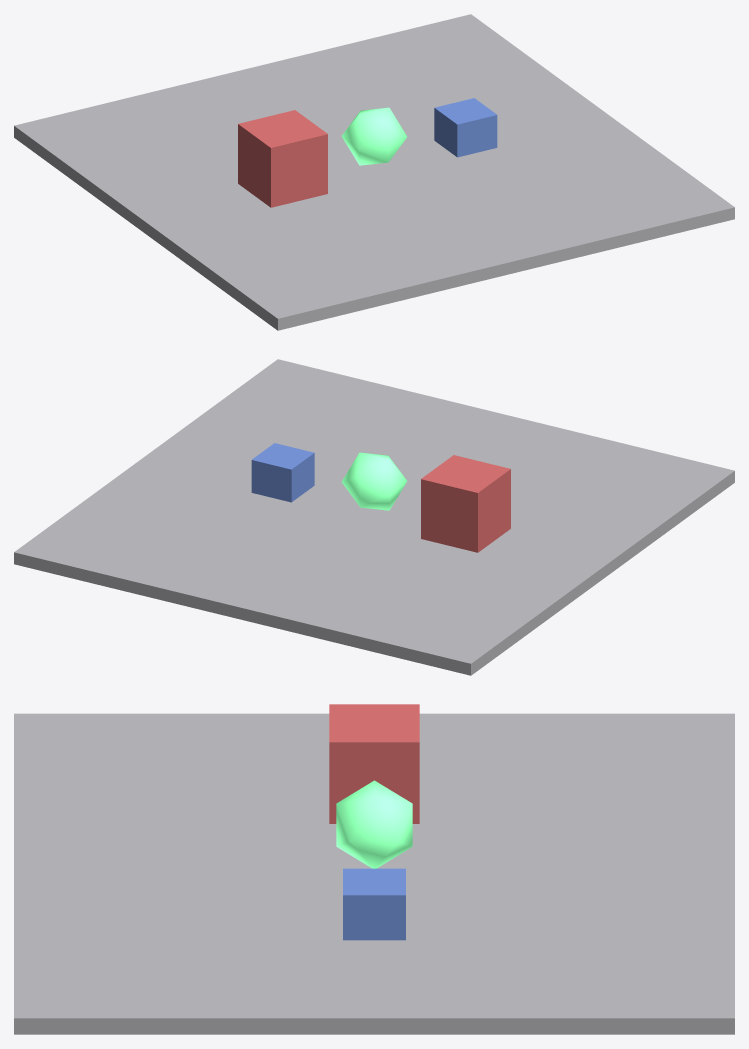
File: playground.glb
3 views of the same model, one above another, from view 1: azimuth 30°, elevation 25°; view 2: azimuth 150°, elevation 25°; view 3: azimuth 270°, elevation 25° (orthographic). The views are drawn at different scales.
Visible parts, largest first — view 1: Ground, SpinningCube, TogglePillar, ButtonSphere; view 2: Ground, SpinningCube, TogglePillar, ButtonSphere; view 3: Ground, SpinningCube, ButtonSphere, TogglePillar.
Boxes of the visible parts, x1,y1,x2,y2 form: Ground: (14,14,734,330); SpinningCube: (238,110,327,207); TogglePillar: (434,98,497,157); ButtonSphere: (341,107,406,165); Ground: (14,359,734,675); SpinningCube: (421,455,510,552); TogglePillar: (251,443,314,502); ButtonSphere: (342,452,407,510); Ground: (14,713,734,1034); SpinningCube: (329,704,419,823); ButtonSphere: (336,780,412,868); TogglePillar: (343,868,405,940).
Bounding box in the file's own units: 8 × 1.2 × 8.
